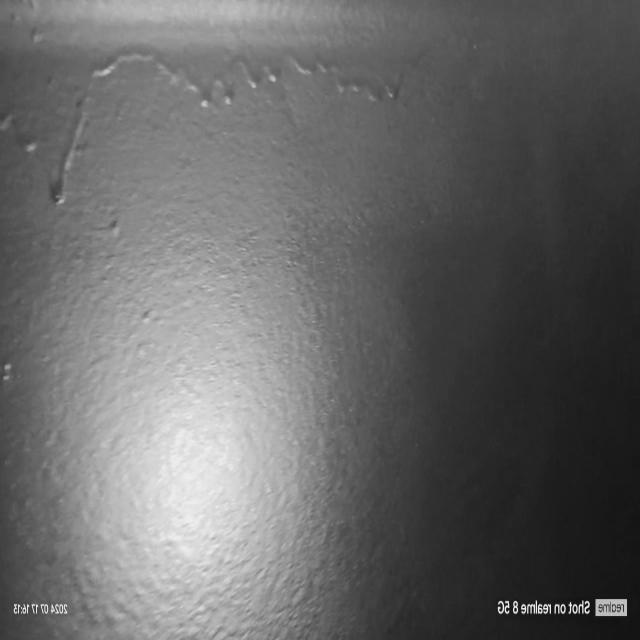paint drips: (0, 35, 433, 224)
